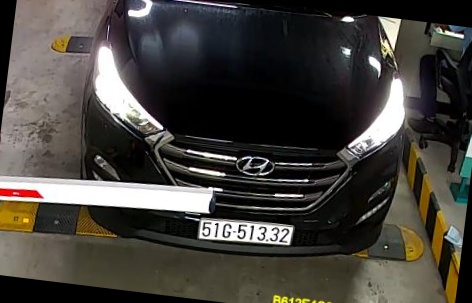plate: (194, 214, 299, 251)
